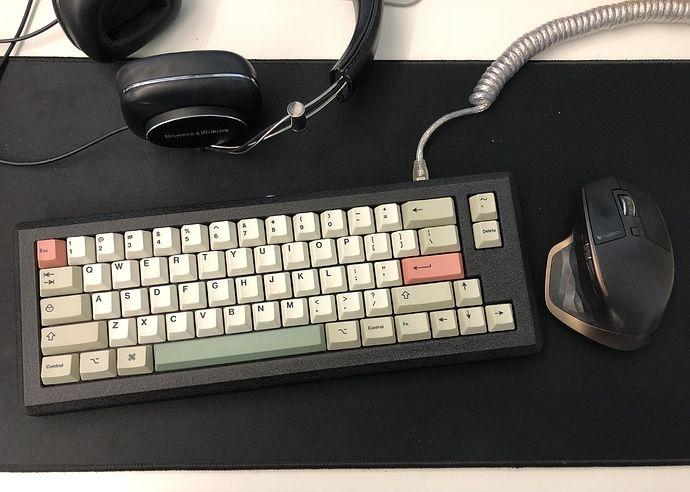keyboard: (13, 170, 543, 415)
